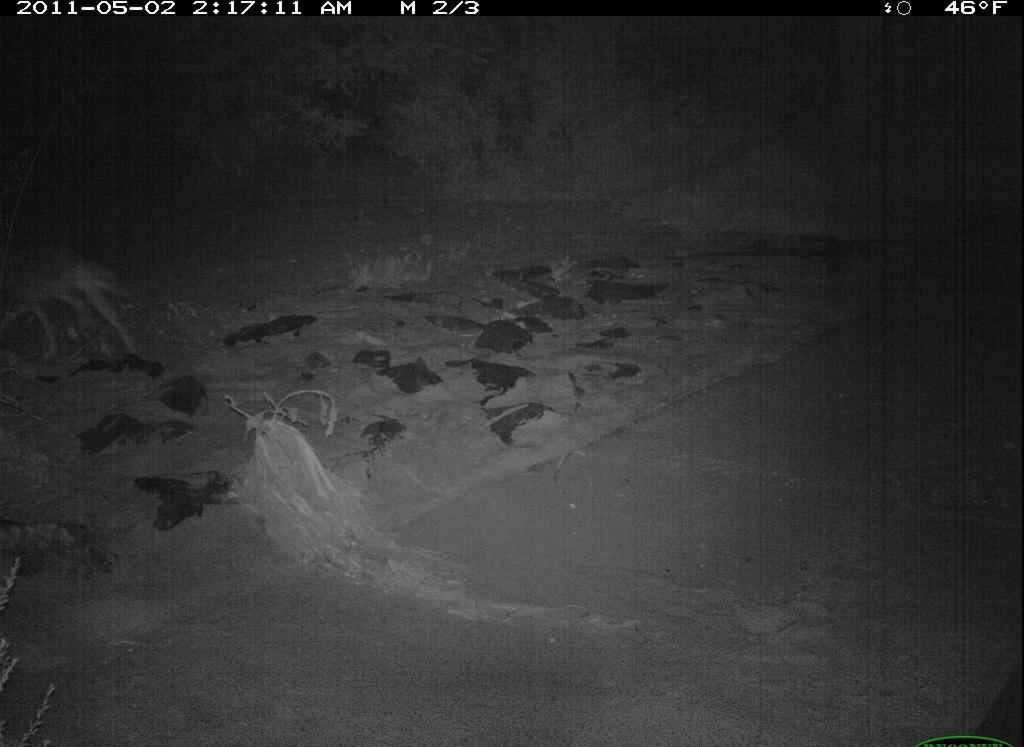coyote: (1, 225, 150, 370)
